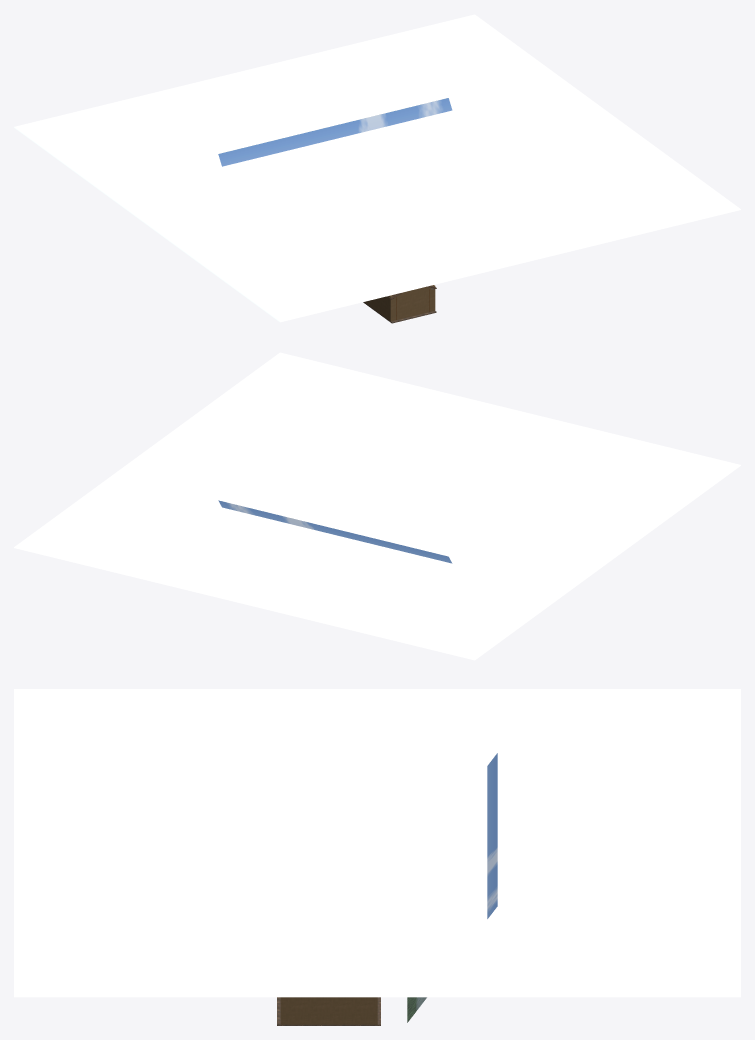
File: closet.glb
3 views of the same model, one above another, from view 1: azimuth 30°, elevation 25°; view 2: azimuth 150°, elevation 25°; view 3: azimuth 270°, elevation 25° (orthographic). The views are drawn at different scales.
Parts seen in each view (by area): view 1: sky, valley view, front wall; view 2: sky, valley view; view 3: sky, side wall.001, valley view.
Boxes of the visible parts, left/top/right/bottom form: sky: left=14, top=14, right=740, bottom=322; valley view: left=218, top=98, right=452, bottom=166; front wall: left=393, top=287, right=435, bottom=320; sky: left=14, top=352, right=740, bottom=660; valley view: left=218, top=500, right=452, bottom=563; sky: left=14, top=689, right=740, bottom=997; side wall.001: left=280, top=997, right=377, bottom=1024; valley view: left=407, top=753, right=497, bottom=1022.
Bounding box in the file's own units: 60 × 16.54 × 60.
Materials: 33 (10 with a texture image).
